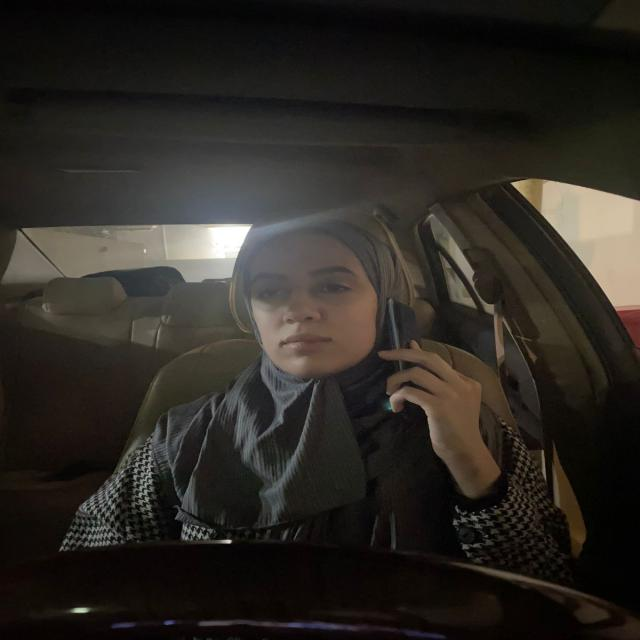mobile: (386, 296, 428, 356)
person: (236, 226, 382, 382)
